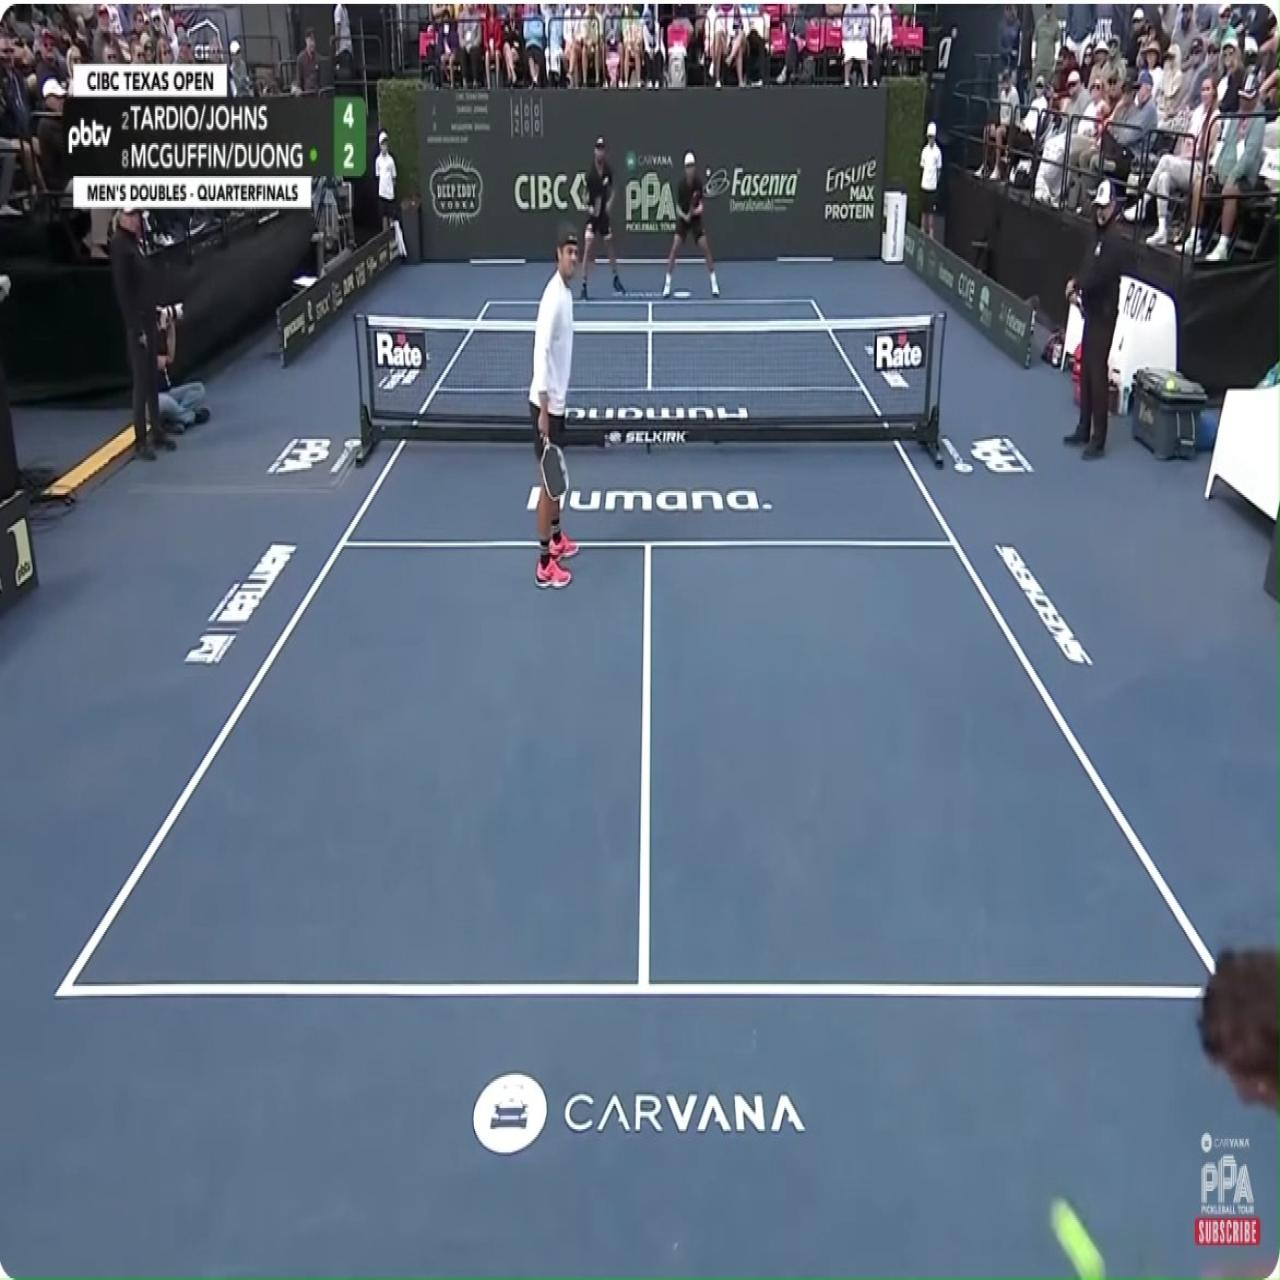pickleball: (1051, 1199, 1104, 1278)
